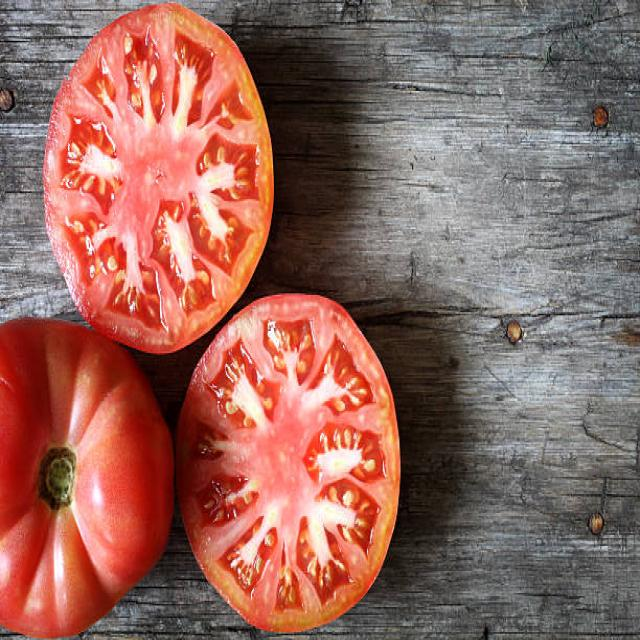Tomato: (43, 14, 291, 355), (177, 276, 407, 640)
